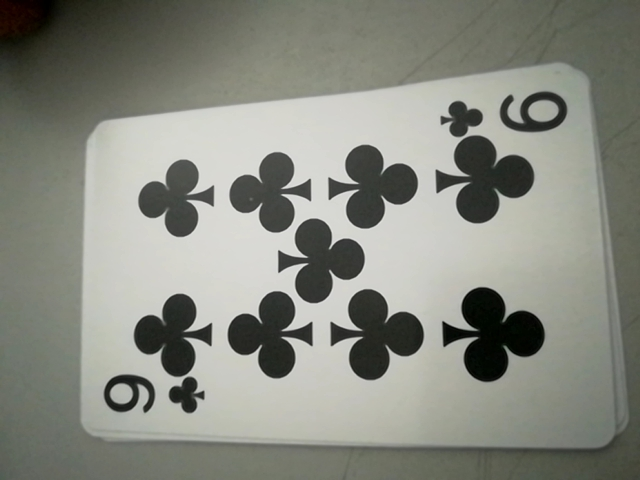mh 9: (434, 84, 573, 142), (98, 369, 208, 427)
